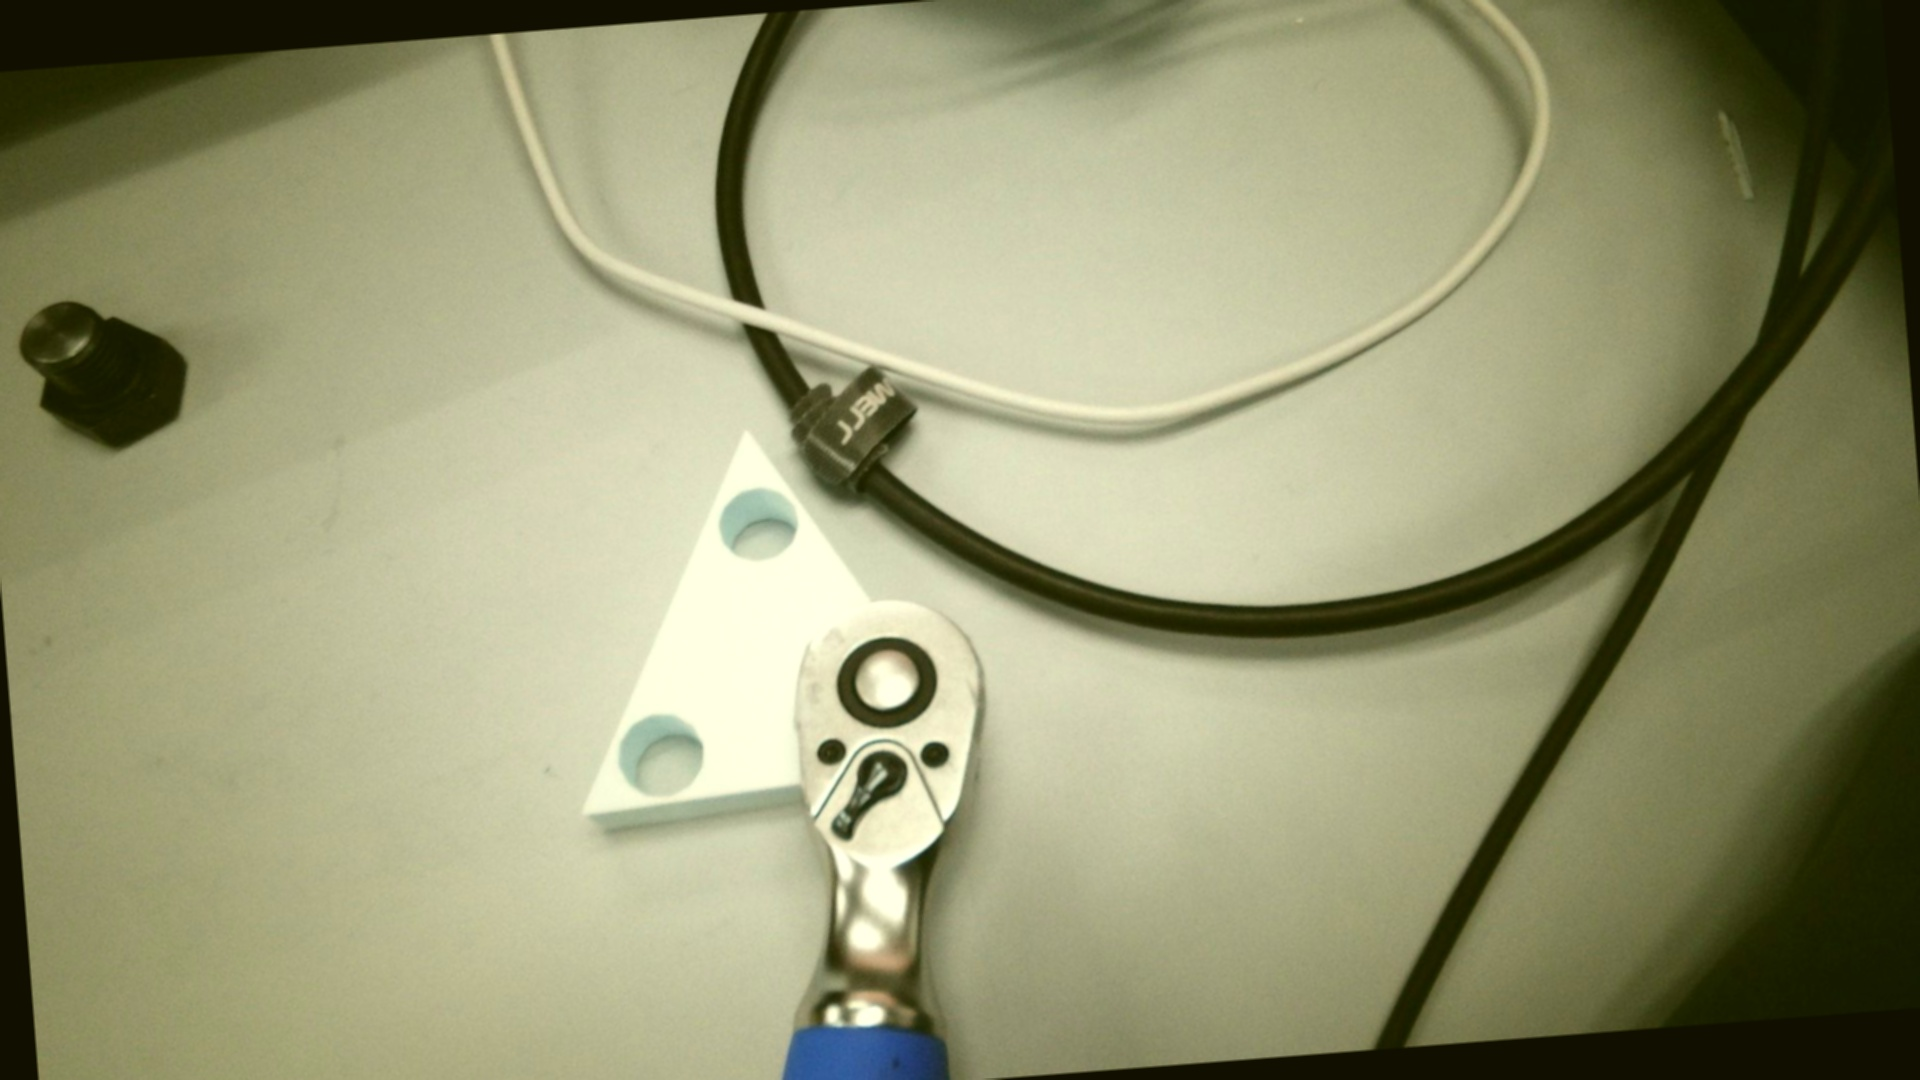hole: (613, 709, 707, 802), (715, 484, 802, 563)
obj: (553, 421, 893, 837)
wrench: (831, 632, 940, 731)
